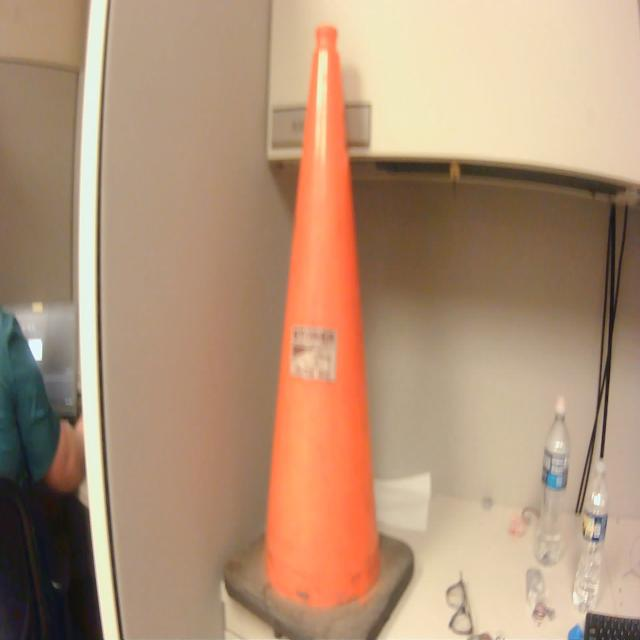traffic cone: (216, 16, 423, 640)
